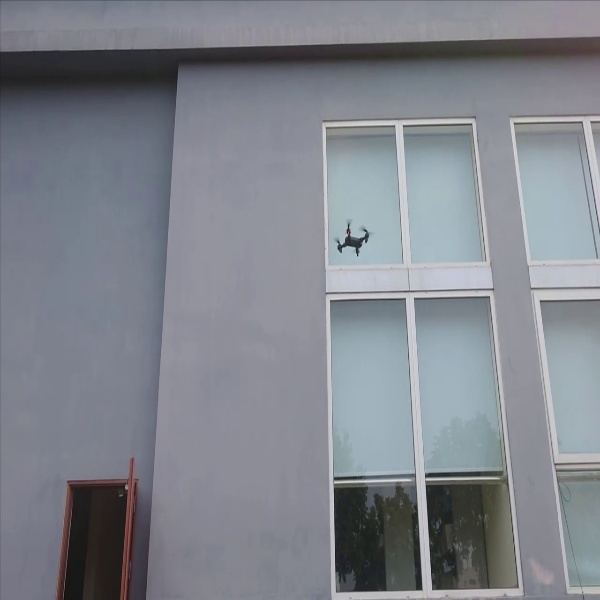drone: (331, 214, 373, 258)
